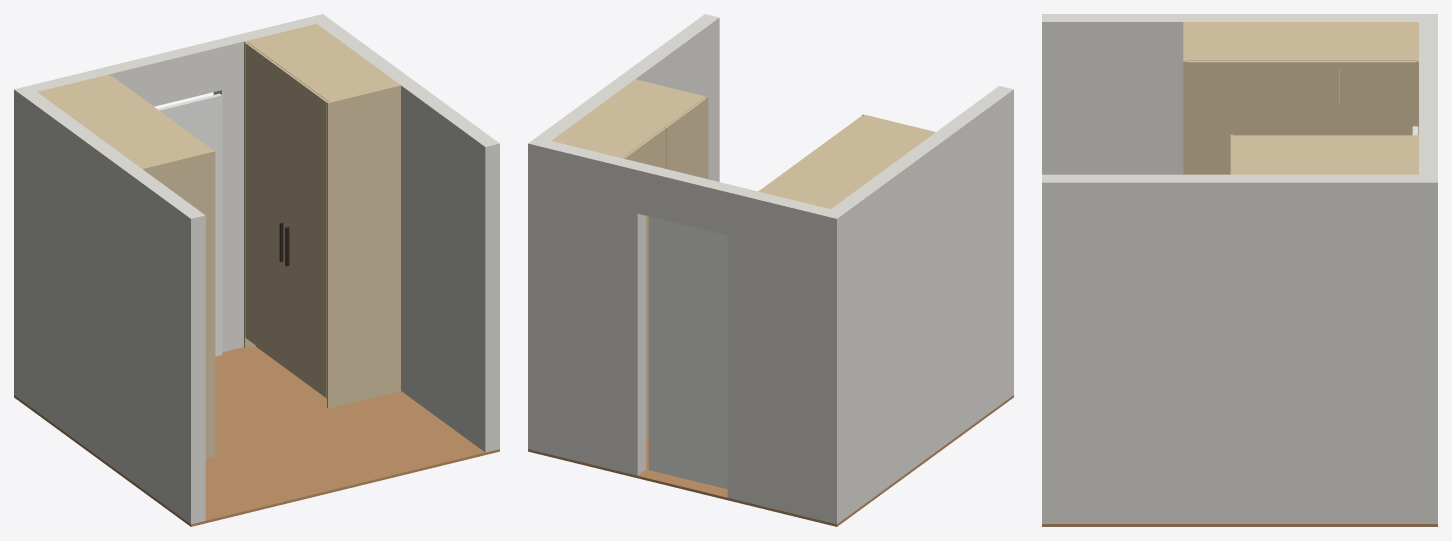
File: birch-ply-wardrobes-stoke-newington.glb
3 views of the same model, side by side, from view 1: azimuth 30°, elevation 25°; view 2: azimuth 150°, elevation 25°; view 3: azimuth 270°, elevation 25° (orthographic). The views are drawn at different scales.
Parts seen in each view (by area): view 1: Room: left wall, Room: right wall, Room: floor, Two-door wardrobe: End panel, right, Two-door wardrobe: Unit 1: Door, left, Two-door wardrobe: Unit 1: Door, right, Room: end wall, right, Two-door wardrobe: Unit 1: Top, Three-door wardrobe: End panel, left, Three-door wardrobe: Unit 2: Top, Room: end wall, over the door, Room: door (+3 smaller); view 2: Room: left wall, Room: end wall, right, Room: end wall, left, Room: door, Room: right wall, Two-door wardrobe: Unit 1: Top, Room: end wall, over the door, Three-door wardrobe: Unit 2: Top, Two-door wardrobe: Unit 1: Door, right, Room: floor, Three-door wardrobe: Unit 1: Top, Two-door wardrobe: Unit 1: Door, left; view 3: Room: right wall, Room: left wall, Three-door wardrobe: Unit 1: Door, Two-door wardrobe: Unit 1: Top, Three-door wardrobe: Unit 2: Top, Three-door wardrobe: Unit 2: Door, left, Three-door wardrobe: Unit 2: Door, right, Three-door wardrobe: Unit 1: Top, Room: floor, Room: end wall, left, Room: end wall, right, Room: end wall, over the door (+1 smaller).
Part boxes in pixels (left/top/right/bottom): Room: left wall: left=14, top=86, right=205, bottom=524; Room: right wall: left=308, top=14, right=499, bottom=452; Room: floor: left=14, top=345, right=499, bottom=526; Two-door wardrobe: End panel, right: left=327, top=84, right=400, bottom=408; Two-door wardrobe: Unit 1: Door, left: left=245, top=42, right=287, bottom=366; Two-door wardrobe: Unit 1: Door, right: left=286, top=72, right=328, bottom=396; Room: end wall, right: left=213, top=17, right=316, bottom=352; Two-door wardrobe: Unit 1: Top: left=249, top=25, right=397, bottom=100; Three-door wardrobe: End panel, left: left=141, top=150, right=215, bottom=458; Three-door wardrobe: Unit 2: Top: left=40, top=76, right=175, bottom=141; Room: end wall, over the door: left=124, top=40, right=221, bottom=106; Room: door: left=157, top=93, right=222, bottom=356; Room: left wall: left=822, top=86, right=1013, bottom=524; Room: end wall, right: left=542, top=141, right=645, bottom=475; Room: end wall, left: left=727, top=186, right=830, bottom=520; Room: door: left=648, top=216, right=727, bottom=488; Room: right wall: left=528, top=14, right=719, bottom=452; Two-door wardrobe: Unit 1: Top: left=554, top=81, right=703, bottom=156; Room: end wall, over the door: left=637, top=164, right=735, bottom=235; Three-door wardrobe: Unit 2: Top: left=763, top=141, right=898, bottom=207; Two-door wardrobe: Unit 1: Door, right: left=664, top=98, right=706, bottom=178; Room: floor: left=528, top=395, right=1013, bottom=526; Three-door wardrobe: Unit 1: Top: left=831, top=116, right=932, bottom=156; Two-door wardrobe: Unit 1: Door, left: left=624, top=128, right=665, bottom=437; Room: right wall: left=1042, top=174, right=1437, bottom=523; Room: left wall: left=1042, top=14, right=1437, bottom=174; Three-door wardrobe: Unit 1: Door: left=1186, top=61, right=1262, bottom=174; Two-door wardrobe: Unit 1: Top: left=1236, top=136, right=1413, bottom=174; Three-door wardrobe: Unit 2: Top: left=1265, top=22, right=1413, bottom=62; Three-door wardrobe: Unit 2: Door, left: left=1263, top=61, right=1339, bottom=135; Three-door wardrobe: Unit 2: Door, right: left=1339, top=61, right=1415, bottom=135; Three-door wardrobe: Unit 1: Top: left=1189, top=22, right=1259, bottom=60; Room: floor: left=1042, top=524, right=1437, bottom=526; Room: end wall, left: left=1419, top=22, right=1437, bottom=73; Room: end wall, right: left=1419, top=123, right=1437, bottom=174; Room: end wall, over the door: left=1419, top=73, right=1437, bottom=122.
Size of the model in its own units: 2.54 by 2.42 by 2.52.
